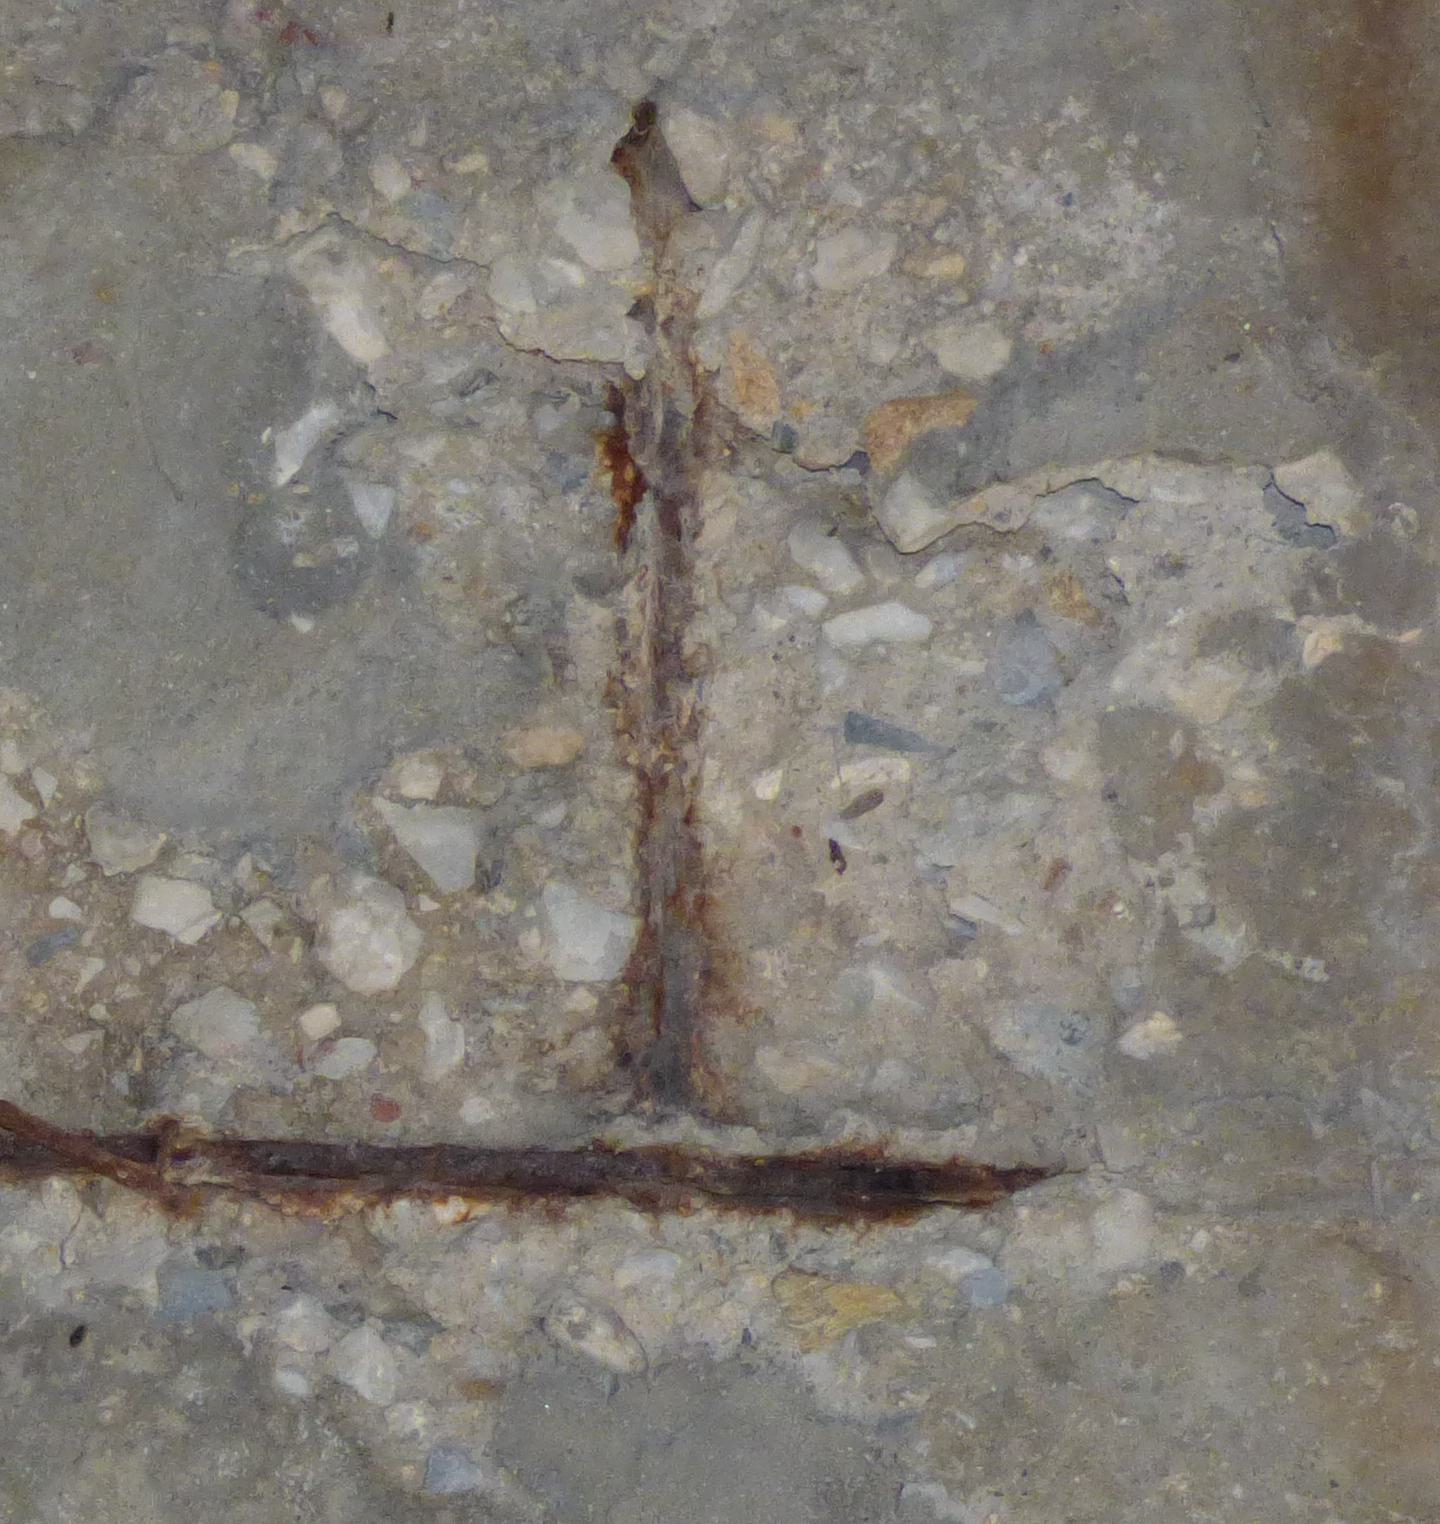Exposed reinforcement: (1, 1098, 1057, 1230), (604, 97, 717, 1099)
